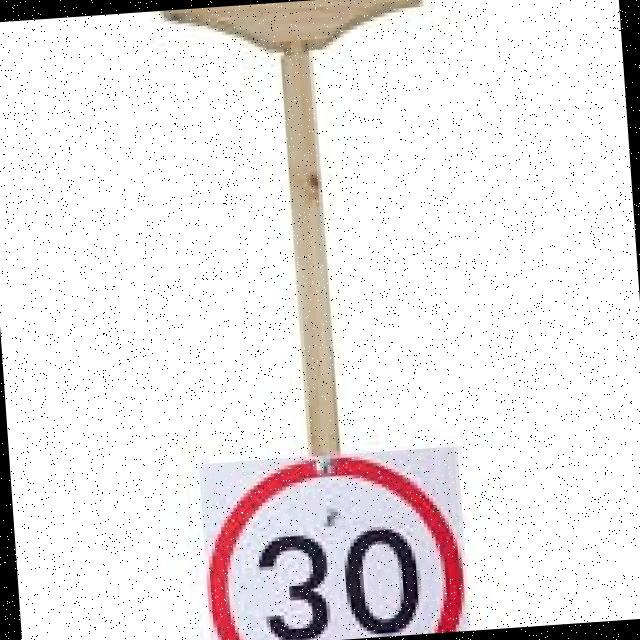speed_limit_30: (202, 453, 463, 640)
